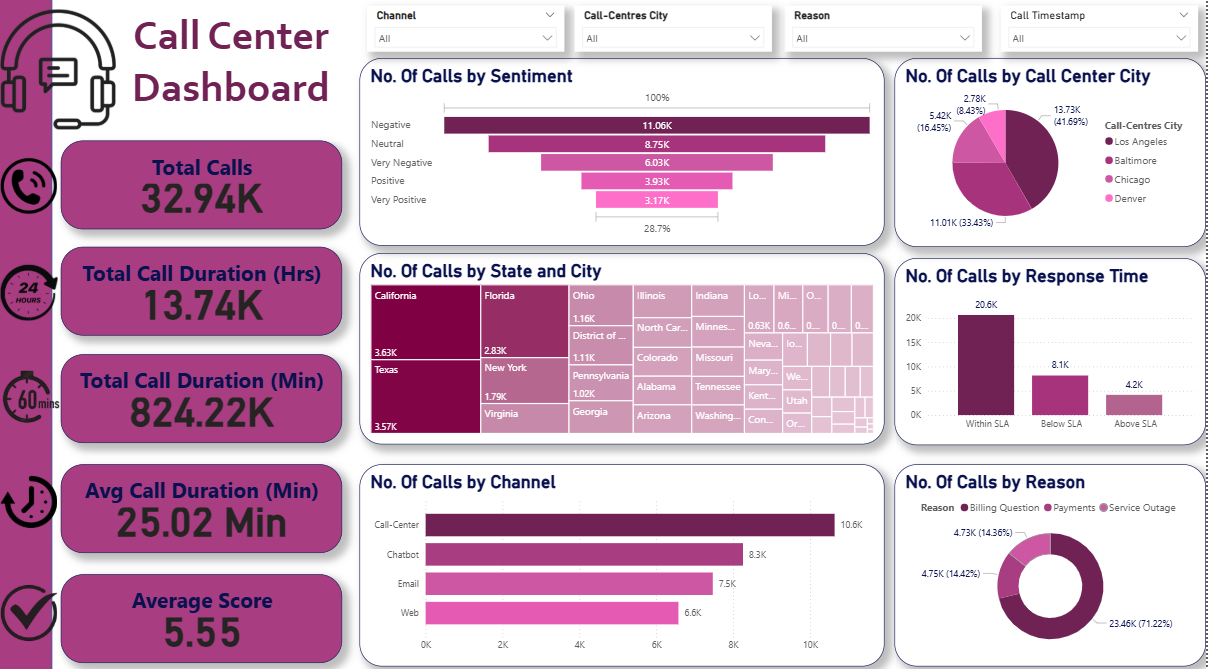

This screenshot's page, from the dashboard's own definition file:
{"tool":"powerbi","page":{"name":"Call Center","canvas":[1613,900],"ordinal":0},"visuals":[{"type":"card","fields":{"Values":["Dax Measures.# Calls"]},"box":[84.6,190.8,375.4,118.5],"z":0},{"type":"shape","box":[0,0,73.8,900],"z":1000},{"type":"card","fields":{"Values":["Dax Measures.Avg Score"]},"box":[84.6,767.7,375.4,118.5],"z":2000},{"type":"card","fields":{"Values":["Dax Measures.Avg Call Duration"]},"box":[84.6,621.5,375.4,118.5],"z":3000},{"type":"card","fields":{"Values":["Sum(Call Center_Call Center.Call Duration In Minutes)"]},"box":[84.6,475.4,375.4,118.5],"z":4000},{"type":"card","fields":{"Values":["Dax Measures.Total Call Duration (Hours)"]},"box":[84.6,332.3,375.4,118.5],"z":5000},{"type":"image","box":[1.5,476.9,98.5,118.5],"z":6000},{"type":"image","box":[0,155.4,84.6,190.8],"z":7000},{"type":"image","box":[0,296.9,86.2,190.8],"z":8000},{"type":"image","box":[0,576.9,84.6,190.8],"z":9000},{"type":"image","box":[0,740,84.6,160],"z":10000},{"type":"barChart","title":"No. Of Calls by Channel","fields":{"Y":["Dax Measures.# Calls"],"Category":["Call Center_Call Center.Channel"]},"box":[483.1,621.5,700,269.2],"z":11000},{"type":"treemap","title":"No. Of Calls by State and City","fields":{"Group":["Call Center_Call Center.State","Call Center_Call Center.City"],"Values":["Dax Measures.# Calls"]},"box":[483.1,340,700,255.4],"z":12000},{"type":"funnel","title":"No. Of Calls by Sentiment","fields":{"Category":["Call Center_Call Center.Sentiment"],"Y":["Dax Measures.# Calls"]},"box":[483.1,80,700,250.8],"z":13000},{"type":"donutChart","title":"No. Of Calls by Reason","fields":{"Category":["Call Center_Call Center.Reason"],"Y":["Dax Measures.# Calls"]},"box":[1196.9,621.5,415.4,269.2],"z":14000},{"type":"columnChart","title":"No. Of Calls by Response Time","fields":{"Category":["Call Center_Call Center.Response Time"],"Y":["Dax Measures.# Calls"]},"box":[1196.9,346.2,415.4,249.2],"z":15000},{"type":"pieChart","title":"No. Of Calls by Call Center City","fields":{"Category":["Call Center_Call Center.Call-Centres City"],"Y":["Dax Measures.# Calls"]},"box":[1196.9,80,415.4,252.3],"z":16000},{"type":"image","box":[0,0,163.1,190.8],"z":16001},{"type":"textbox","box":[163.1,10.8,296.9,169.2],"z":16002},{"type":"slicer","fields":{"Values":["Call Center_Call Center.Reason"]},"box":[1050.8,10.8,263.1,61.5],"z":16003},{"type":"slicer","fields":{"Values":["Call Center_Call Center.Channel"]},"box":[493.8,10.8,263.1,61.5],"z":16004},{"type":"slicer","fields":{"Values":["Call Center_Call Center.Call-Centres City"]},"box":[769.2,10.8,263.1,61.5],"z":16005},{"type":"slicer","fields":{"Values":["Call Center_Call Center.Call Timestamp"]},"box":[1338.5,10.8,263.1,61.5],"z":16006}]}

Visuals, with their boxes in screenshot pixels (x1, y1, x2, y2), scaled from the page's 1613x900 canvas onto the 1213x669 screenshot:
card - Dax Measures.# Calls: {"x1": 64, "y1": 142, "x2": 346, "y2": 230}
shape: {"x1": 0, "y1": 0, "x2": 55, "y2": 668}
card - Dax Measures.Avg Score: {"x1": 64, "y1": 571, "x2": 346, "y2": 659}
card - Dax Measures.Avg Call Duration: {"x1": 64, "y1": 462, "x2": 346, "y2": 550}
card - Sum(Call Center_Call Center.Call Duration In Minutes): {"x1": 64, "y1": 353, "x2": 346, "y2": 441}
card - Dax Measures.Total Call Duration (Hours): {"x1": 64, "y1": 247, "x2": 346, "y2": 335}
image: {"x1": 1, "y1": 354, "x2": 75, "y2": 443}
image: {"x1": 0, "y1": 116, "x2": 64, "y2": 257}
image: {"x1": 0, "y1": 221, "x2": 65, "y2": 363}
image: {"x1": 0, "y1": 429, "x2": 64, "y2": 571}
image: {"x1": 0, "y1": 550, "x2": 64, "y2": 668}
"No. Of Calls by Channel" barChart: {"x1": 363, "y1": 462, "x2": 890, "y2": 662}
"No. Of Calls by State and City" treemap: {"x1": 363, "y1": 253, "x2": 890, "y2": 443}
"No. Of Calls by Sentiment" funnel: {"x1": 363, "y1": 59, "x2": 890, "y2": 246}
"No. Of Calls by Reason" donutChart: {"x1": 900, "y1": 462, "x2": 1212, "y2": 662}
"No. Of Calls by Response Time" columnChart: {"x1": 900, "y1": 257, "x2": 1212, "y2": 443}
"No. Of Calls by Call Center City" pieChart: {"x1": 900, "y1": 59, "x2": 1212, "y2": 247}
image: {"x1": 0, "y1": 0, "x2": 123, "y2": 142}
textbox: {"x1": 123, "y1": 8, "x2": 346, "y2": 134}
slicer - Call Center_Call Center.Reason: {"x1": 790, "y1": 8, "x2": 988, "y2": 54}
slicer - Call Center_Call Center.Channel: {"x1": 371, "y1": 8, "x2": 569, "y2": 54}
slicer - Call Center_Call Center.Call-Centres City: {"x1": 578, "y1": 8, "x2": 776, "y2": 54}
slicer - Call Center_Call Center.Call Timestamp: {"x1": 1007, "y1": 8, "x2": 1204, "y2": 54}
